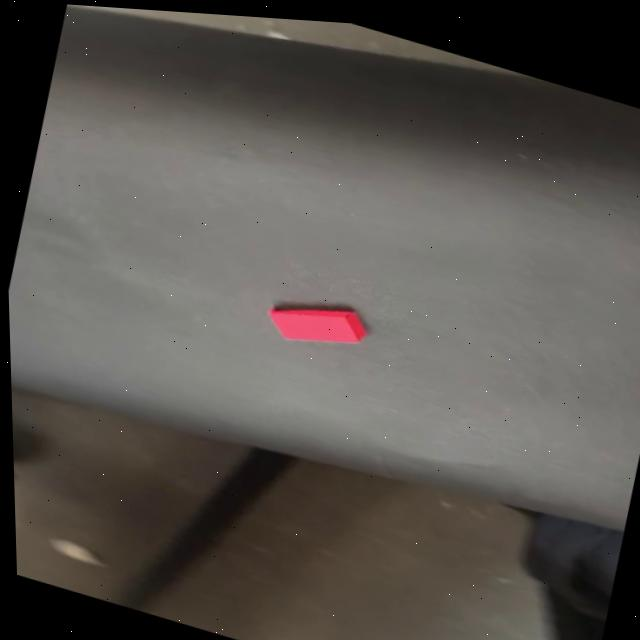red block: (261, 285, 372, 362)
